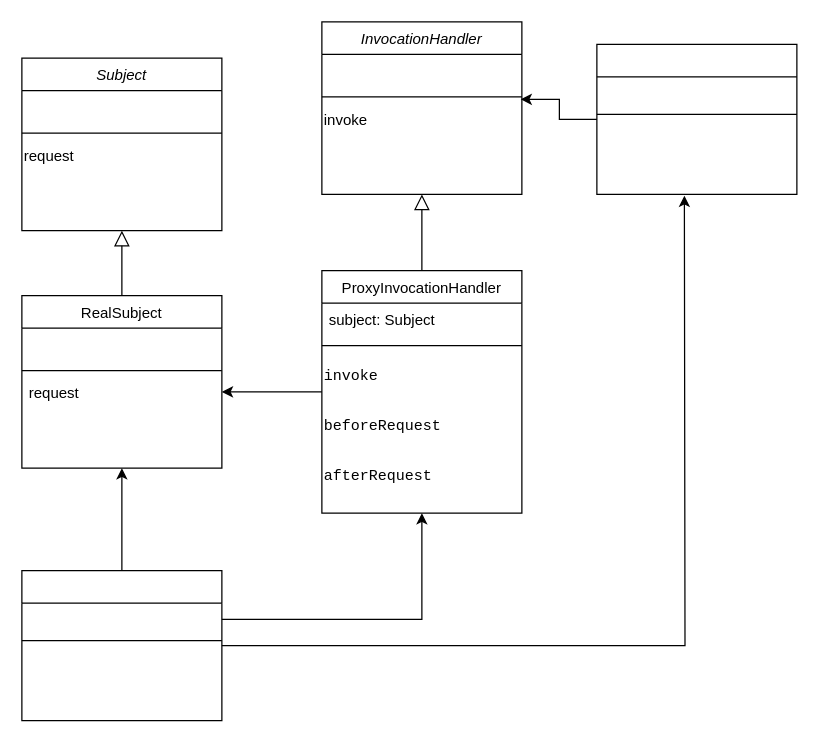
Image size: 819x743. Some labels were removed from this diagram. Here are the shapes that lost their labels. From the top down, the centre of each, then its label:
point (696, 118): Proxy
point (121, 645): Client
